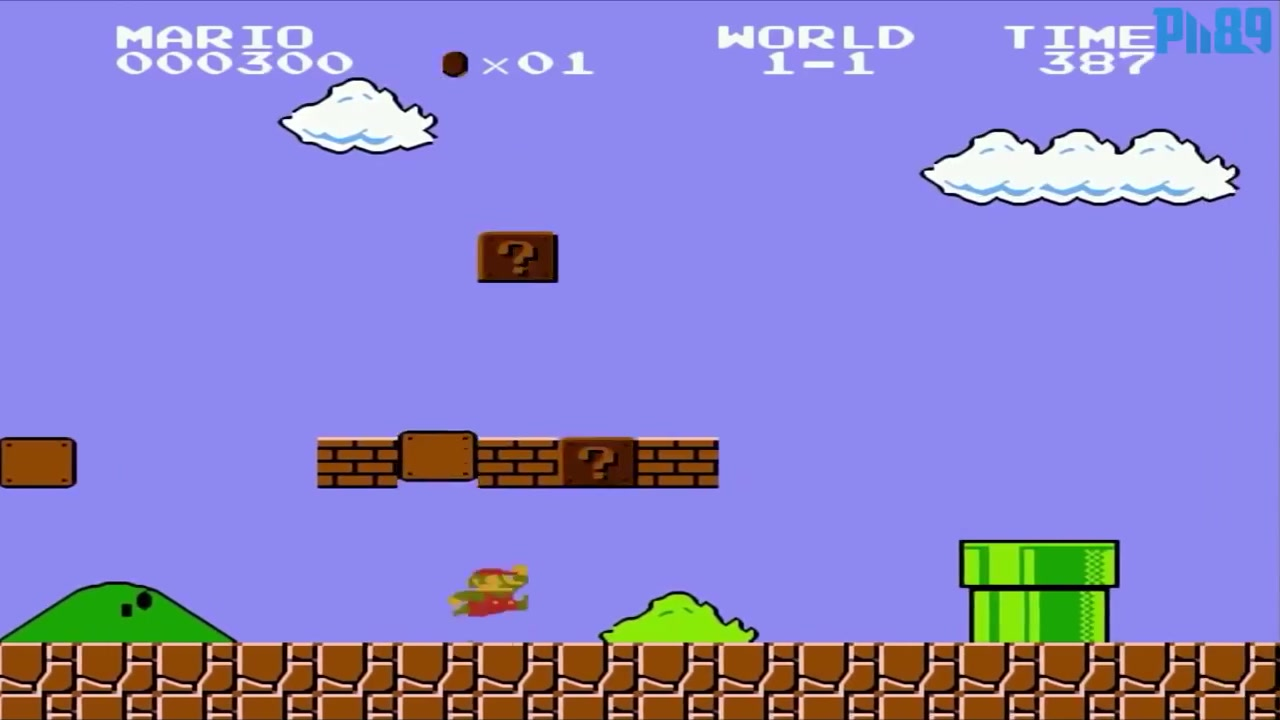mario: (444, 554, 540, 622)
